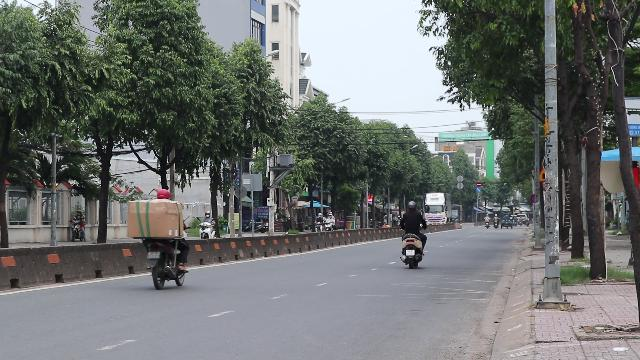helmet: (156, 188, 170, 199)
licenseplate: (147, 252, 159, 258)
motorcyclist: (124, 186, 190, 288)
